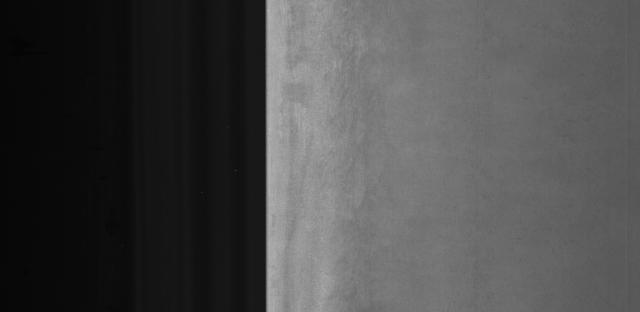silk_spot: (328, 72, 390, 286)
